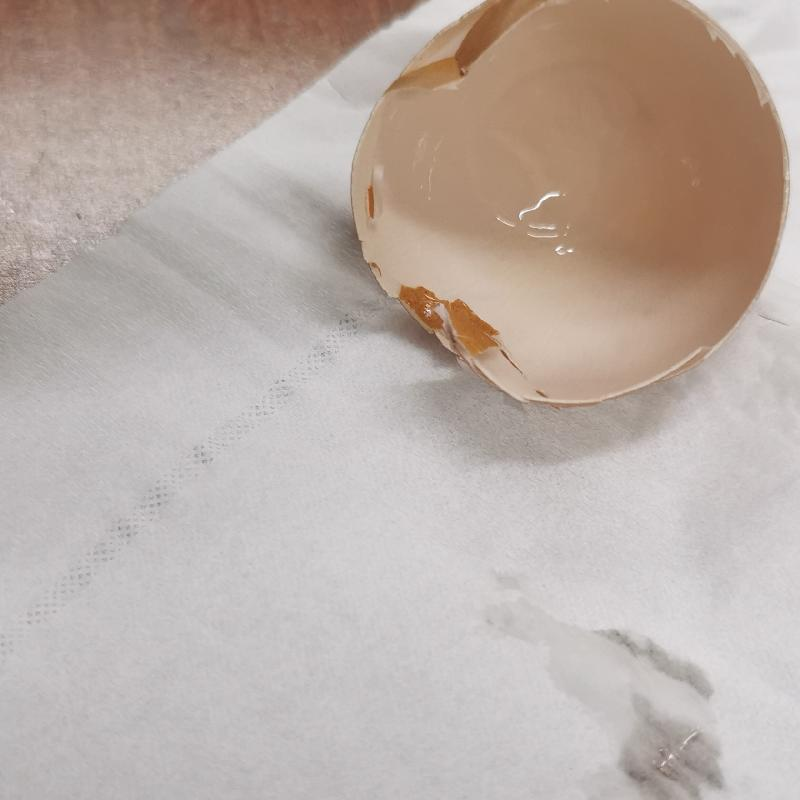eggshell: (349, 1, 789, 413)
